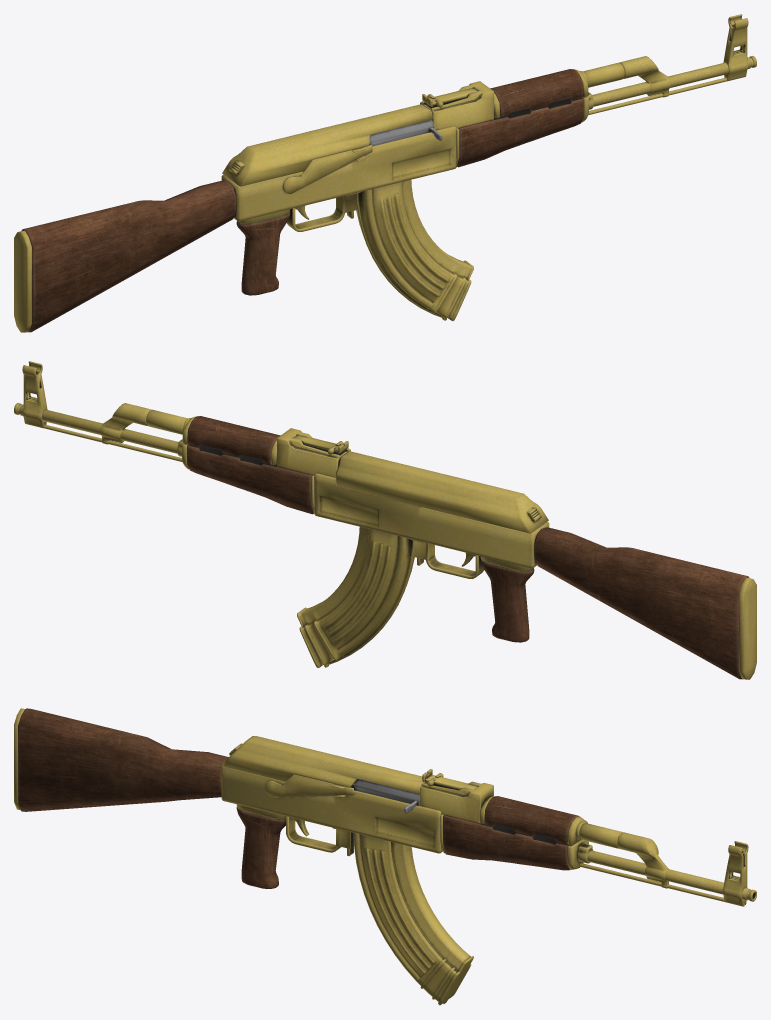
The model's file is AK-47 Glod.fbx.
3 views of the same model, one above another, from view 1: azimuth 30°, elevation 25°; view 2: azimuth 150°, elevation 25°; view 3: azimuth 330°, elevation 25° (orthographic).
Visible parts, largest first — view 1: Butt_low, Magazine_low, Box_low, Top_low, StockWoodBottom_low, Handle_low, StockWoodTop_low, MidSightHolder_low, ButtCover_low, Barrel_low, SelectFire_low, IronSights_low (+5 smaller); view 2: Butt_low, Magazine_low, Box_low, Top_low, StockWoodBottom_low, Handle_low, StockWoodTop_low, MidSightHolder_low, ButtCover_low, Barrel_low, IronSights_low, BarrelSupport_low (+3 smaller); view 3: Butt_low, Magazine_low, Box_low, Top_low, StockWoodBottom_low, Handle_low, StockWoodTop_low, MidSightHolder_low, Barrel_low, SelectFire_low, IronSights_low, BarrelSupport_low (+4 smaller).
Boxes of the visible parts, x1,y1,x2,y2 form: Butt_low: (21,180,236,332); Magazine_low: (356,180,473,320); Box_low: (221,126,456,221); Top_low: (222,104,433,186); StockWoodBottom_low: (457,98,583,167); Handle_low: (236,211,290,295); StockWoodTop_low: (490,69,583,117); MidSightHolder_low: (420,81,493,130); ButtCover_low: (14,231,31,332); Barrel_low: (592,56,756,106); SelectFire_low: (283,144,372,193); IronSights_low: (723,14,748,81); Butt_low: (534,527,749,679); Magazine_low: (297,527,414,667); Box_low: (314,473,549,568); Top_low: (335,451,548,533); StockWoodBottom_low: (187,445,313,514); Handle_low: (480,558,534,642); StockWoodTop_low: (187,416,280,464); MidSightHolder_low: (277,428,350,477); ButtCover_low: (739,578,756,679); Barrel_low: (14,403,178,453); IronSights_low: (22,361,47,428); BarrelSupport_low: (100,403,151,444); Butt_low: (18,708,228,811); Magazine_low: (353,833,473,1005); Box_low: (221,765,442,853); Top_low: (222,736,426,793); StockWoodBottom_low: (443,815,569,870); Handle_low: (236,807,285,888); StockWoodTop_low: (484,796,579,844); MidSightHolder_low: (420,781,493,823); Barrel_low: (587,850,756,901); SelectFire_low: (264,774,353,797); IronSights_low: (722,841,748,906); BarrelSupport_low: (617,832,669,888).
Size of the model in its own units: 100 by 30.09 by 6.56.
1 material, 1 textured.
